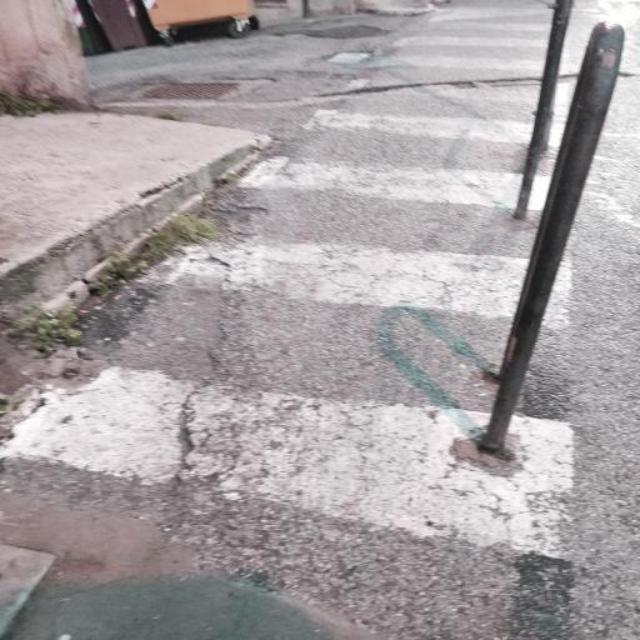sidewalk: (1, 8, 543, 529)
